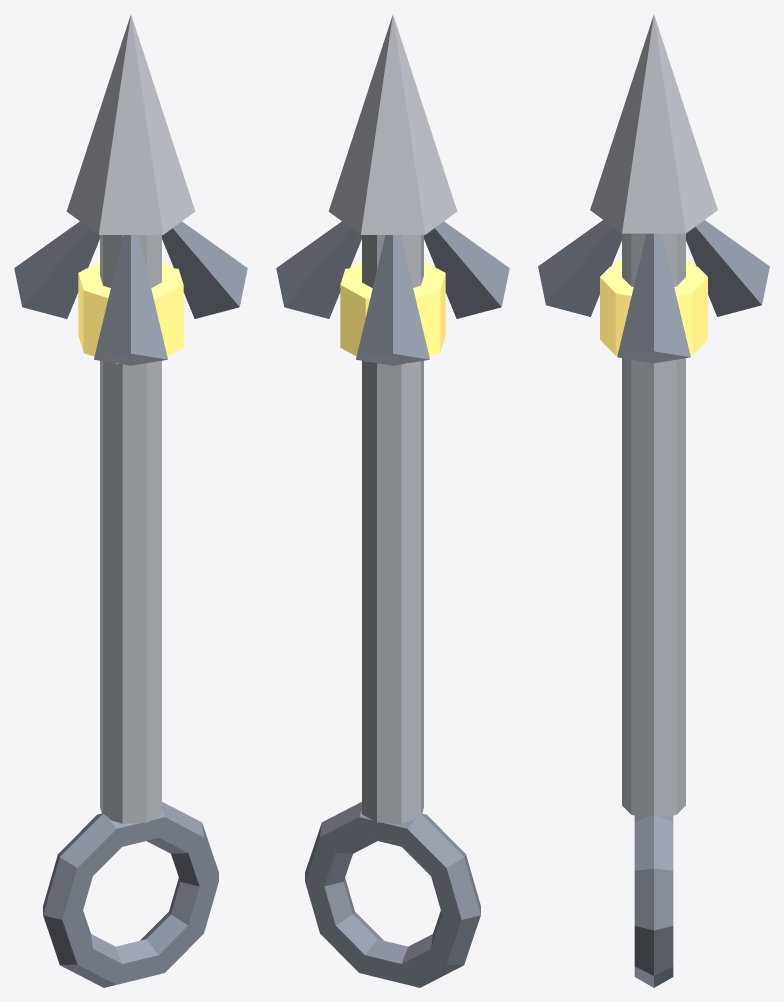
Rendered from harpoon.glb.
3 renders of one model, left to right at view 1: azimuth 30°, elevation 25°; view 2: azimuth 150°, elevation 25°; view 3: azimuth 270°, elevation 25°, orthographic.
Parts seen in each view (by area): view 1: PangHarpoonEye; view 2: PangHarpoonEye; view 3: PangHarpoonEye.
Boxes of the visible parts, x1,y1,x2,y2 form: PangHarpoonEye: (14, 15, 247, 987); PangHarpoonEye: (276, 15, 509, 987); PangHarpoonEye: (538, 15, 769, 987).
Size of the model in its own units: 0.4772 by 2.15 by 0.4715.
